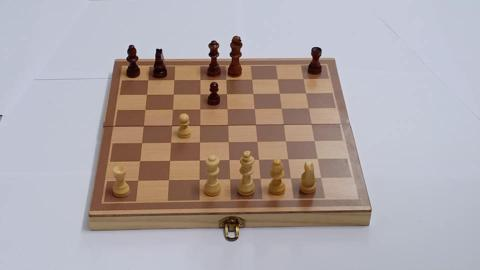xcorner: (144, 77, 150, 83), (142, 92, 148, 98), (141, 107, 147, 113), (139, 123, 145, 129), (138, 140, 144, 146), (136, 158, 142, 164), (134, 178, 140, 184), (170, 77, 176, 83), (169, 91, 175, 97), (169, 107, 175, 113), (168, 123, 174, 129), (167, 140, 173, 146), (166, 158, 172, 164), (165, 177, 171, 183), (196, 77, 202, 83), (196, 91, 202, 97), (196, 106, 202, 112), (196, 123, 202, 129), (196, 140, 202, 146), (196, 158, 202, 164), (196, 177, 202, 183), (222, 76, 228, 82), (223, 91, 229, 97), (224, 106, 230, 112), (224, 122, 230, 128), (225, 139, 231, 145), (226, 157, 232, 163), (227, 177, 233, 183), (248, 76, 254, 82), (250, 91, 256, 97), (251, 106, 257, 112), (253, 122, 259, 128), (254, 139, 260, 145), (256, 157, 262, 163), (258, 176, 264, 182), (274, 76, 280, 82), (276, 90, 282, 96), (279, 106, 285, 112), (281, 122, 287, 128), (284, 139, 290, 145), (286, 157, 292, 163), (289, 176, 295, 182), (300, 76, 306, 82), (303, 90, 309, 96), (306, 105, 312, 111), (309, 121, 315, 127), (313, 138, 319, 144), (316, 156, 322, 162), (320, 175, 326, 181)
